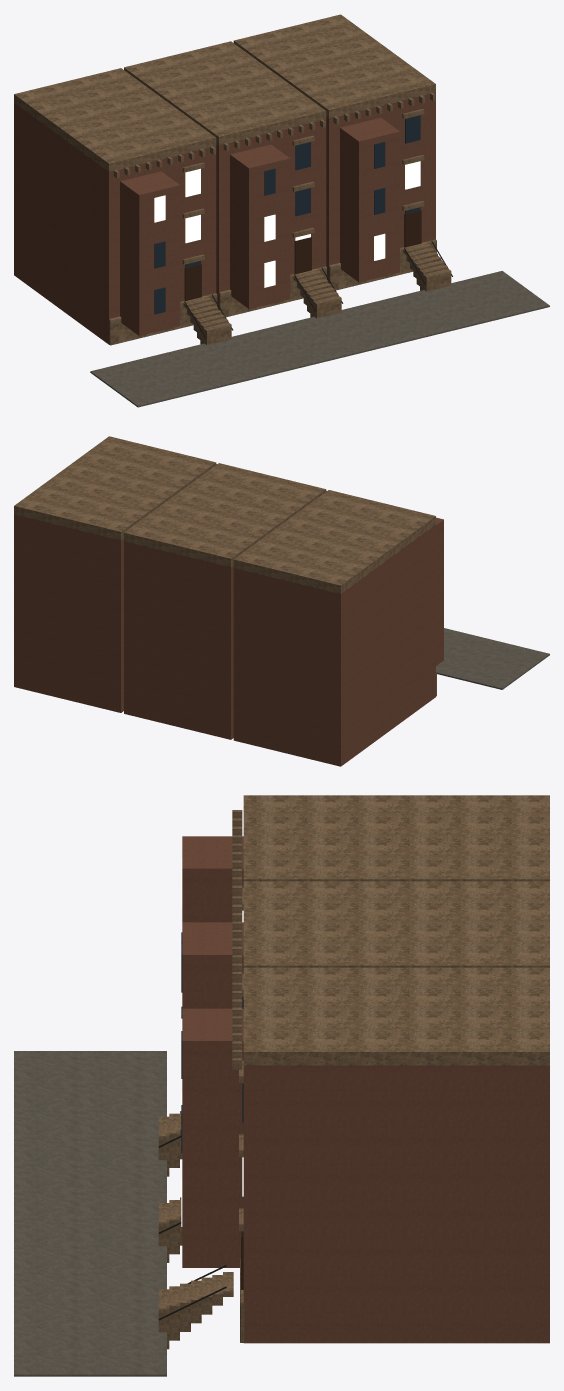
The model's file is OT_Brownstone_A.glb.
The picture shows the model from 3 angles, top to bottom: view 1: azimuth 30°, elevation 25°; view 2: azimuth 150°, elevation 25°; view 3: azimuth 270°, elevation 25°; orthographic projection. The views are drawn at different scales.
Parts seen in each view (by area): view 1: OT_Brownstone_A_Brownstone, OT_Brownstone_A_Stone, OT_Brownstone_A_Pavement, OT_Brownstone_A_Glass__22303a, OT_Brownstone_A_InteriorWarm__ffdca8, OT_Brownstone_A_Door__3a2416; view 2: OT_Brownstone_A_Brownstone, OT_Brownstone_A_Stone, OT_Brownstone_A_Pavement; view 3: OT_Brownstone_A_Brownstone, OT_Brownstone_A_Stone, OT_Brownstone_A_Pavement.
Part boxes in pixels (box(x1,y1,x2,y2)): OT_Brownstone_A_Brownstone: box(14, 93, 435, 344); OT_Brownstone_A_Stone: box(14, 14, 451, 345); OT_Brownstone_A_Pavement: box(90, 271, 549, 407); OT_Brownstone_A_Glass__22303a: box(154, 115, 420, 314); OT_Brownstone_A_InteriorWarm__ffdca8: box(154, 161, 420, 287); OT_Brownstone_A_Door__3a2416: box(184, 210, 421, 300); OT_Brownstone_A_Brownstone: box(14, 464, 443, 766); OT_Brownstone_A_Stone: box(14, 436, 436, 696); OT_Brownstone_A_Pavement: box(436, 628, 549, 689); OT_Brownstone_A_Brownstone: box(182, 836, 549, 1343); OT_Brownstone_A_Stone: box(158, 795, 549, 1349); OT_Brownstone_A_Pavement: box(14, 1051, 166, 1376).
Size of the model in its own units: 30 by 13.23 by 21.
7 materials, 3 textured.
